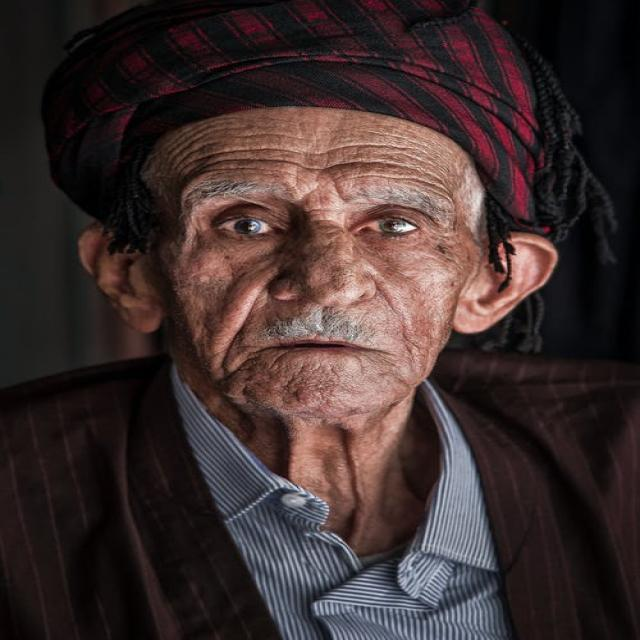Wrinkles: (190, 158, 446, 185), (222, 279, 276, 378), (177, 147, 307, 177), (345, 175, 455, 200), (163, 118, 239, 149), (170, 128, 220, 175), (164, 124, 210, 166), (297, 144, 423, 157), (173, 141, 220, 175), (194, 168, 295, 177), (219, 133, 312, 139), (226, 359, 249, 378), (380, 291, 393, 313), (404, 333, 420, 347), (336, 183, 347, 200)
